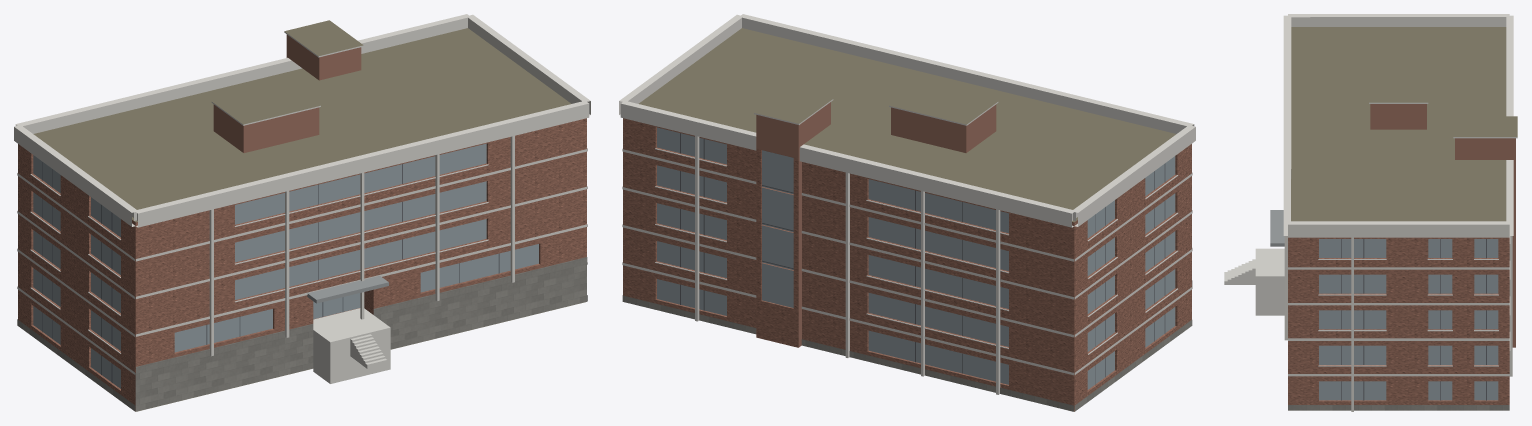
3 renders of one model, left to right at view 1: azimuth 30°, elevation 25°; view 2: azimuth 150°, elevation 25°; view 3: azimuth 270°, elevation 25°, orthographic. The views are drawn at different scales.
Parts seen in each view (by area): view 1: edu10__wall, edu10__roof, edu10__trim, edu10__glass, edu10__base, edu10__entranceStair, edu10__wall2, edu10__canopy, edu10__frame; view 2: edu10__wall, edu10__roof, edu10__trim, edu10__glass, edu10__wall2, edu10__base, edu10__frame; view 3: edu10__roof, edu10__wall, edu10__trim, edu10__glass, edu10__wall2, edu10__entranceStair, edu10__base, edu10__canopy, edu10__frame.
Part boxes in pixels (box(x1,y1,x2,y2)): edu10__wall: box(18, 118, 586, 411); edu10__roof: box(33, 20, 585, 411); edu10__trim: box(14, 14, 590, 374); edu10__glass: box(33, 143, 538, 388); edu10__base: box(17, 257, 587, 411); edu10__entranceStair: box(313, 308, 390, 383); edu10__wall2: box(213, 34, 361, 152); edu10__canopy: box(307, 275, 388, 303); edu10__frame: box(42, 162, 499, 382); edu10__wall: box(623, 118, 1191, 411); edu10__roof: box(639, 28, 1176, 411); edu10__trim: box(619, 14, 1195, 394); edu10__glass: box(657, 127, 1175, 389); edu10__wall2: box(756, 102, 996, 347); edu10__base: box(622, 280, 1192, 411); edu10__frame: box(680, 133, 1165, 384); edu10__roof: box(1291, 27, 1517, 221); edu10__wall: box(1288, 237, 1509, 404); edu10__trim: box(1283, 14, 1517, 411); edu10__glass: box(1319, 239, 1498, 400); edu10__wall2: box(1370, 104, 1515, 347); edu10__entranceStair: box(1224, 248, 1284, 315); edu10__base: box(1288, 405, 1509, 410); edu10__canopy: box(1270, 210, 1284, 246); edu10__frame: box(1341, 239, 1486, 400).
Bounding box in the file's own units: 45.67 × 21.69 × 26.89.
Materials: 10 (2 with a texture image).
